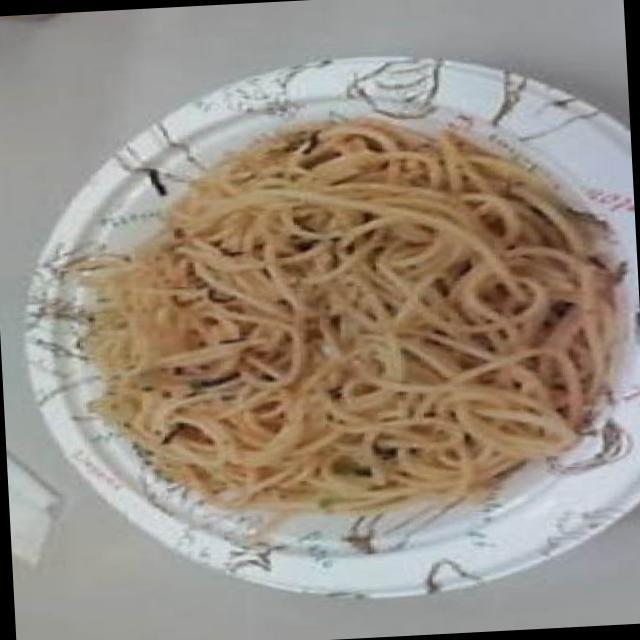Pasta: (100, 125, 590, 514)
